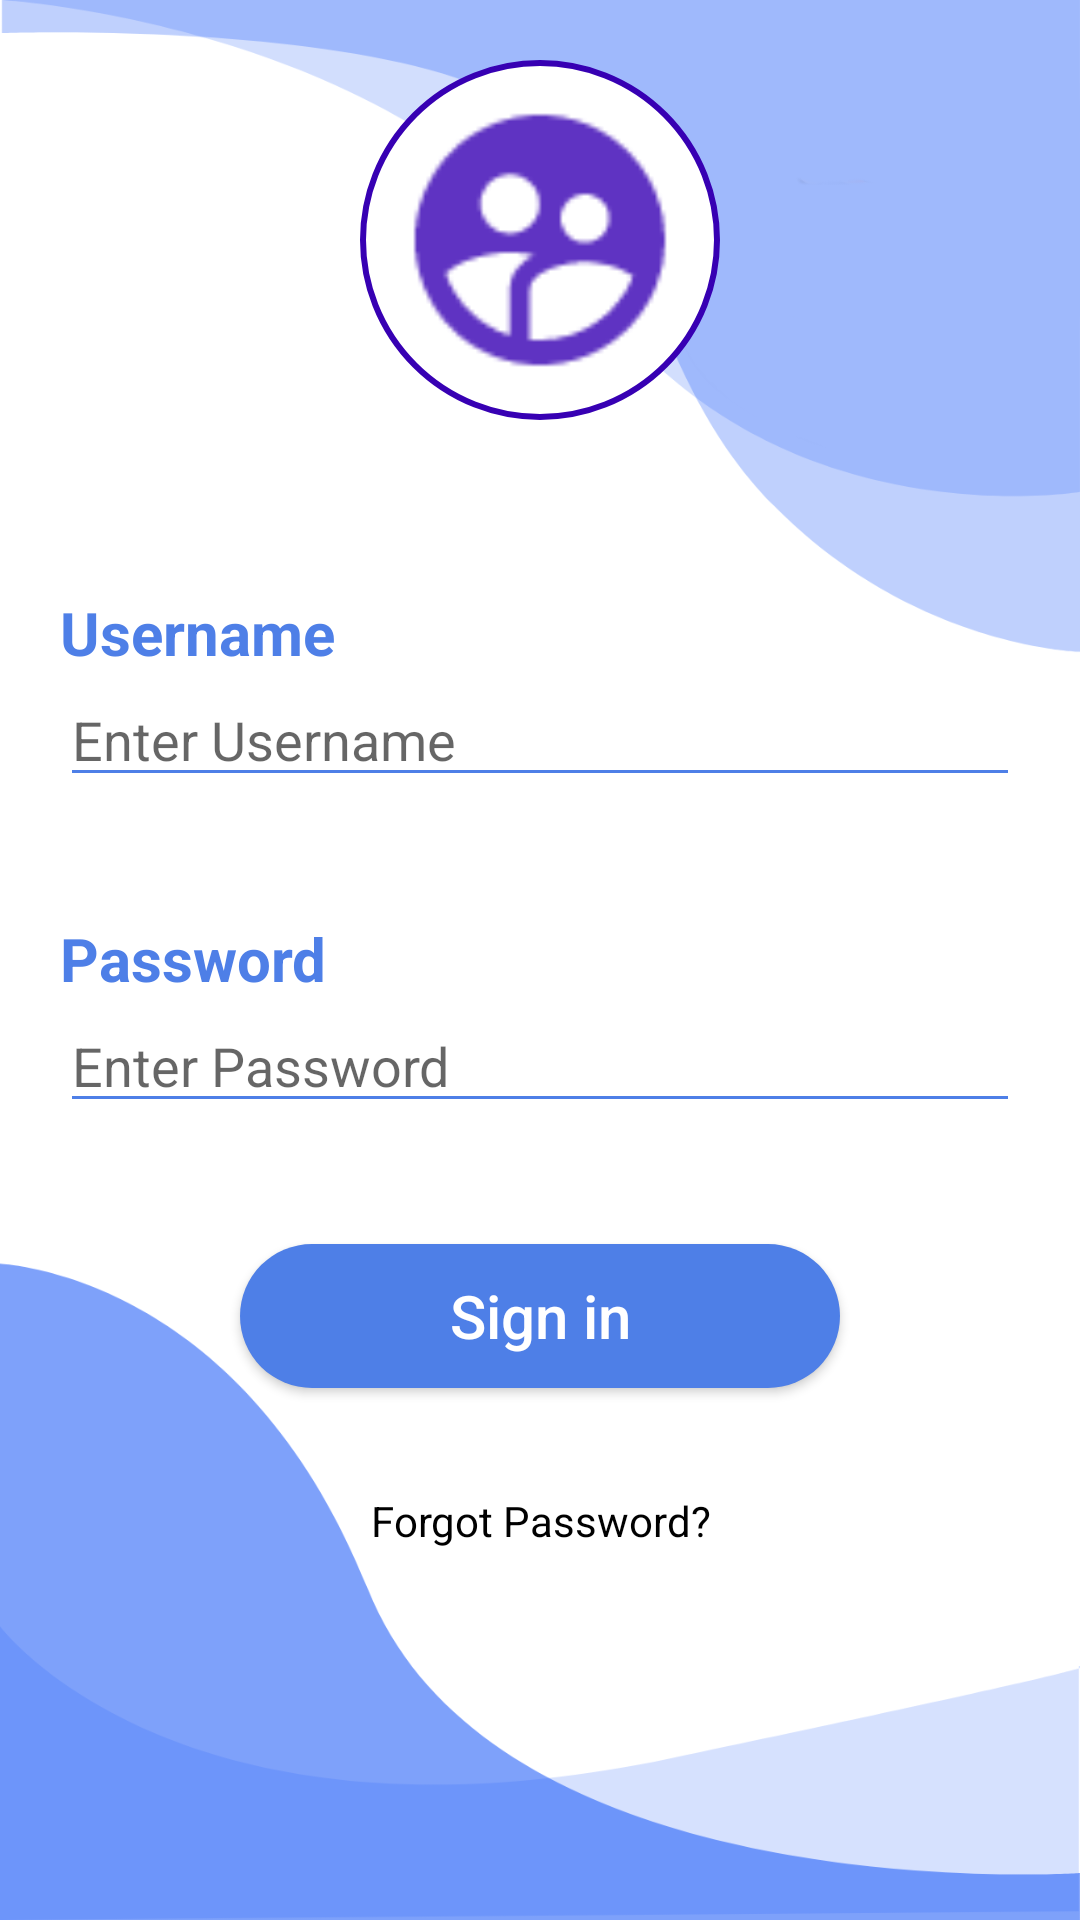

Named icons in this screenshot (1080 x 1920) and their centers, [x,y]:
user: [540,240]
